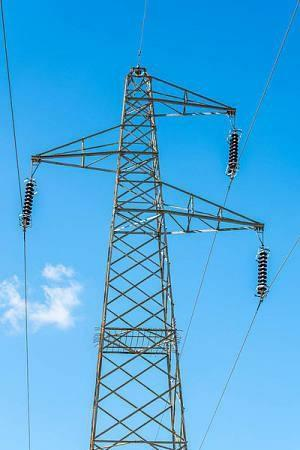power_tower: (19, 66, 274, 450)
